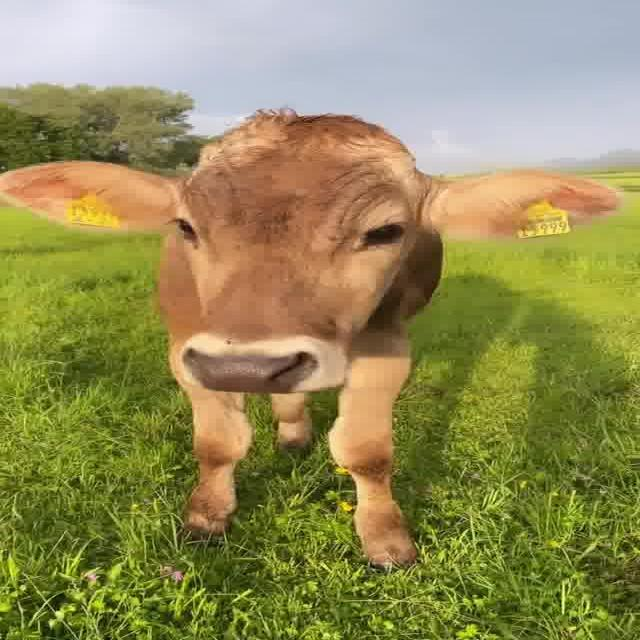cowFace: (9, 104, 624, 386)
